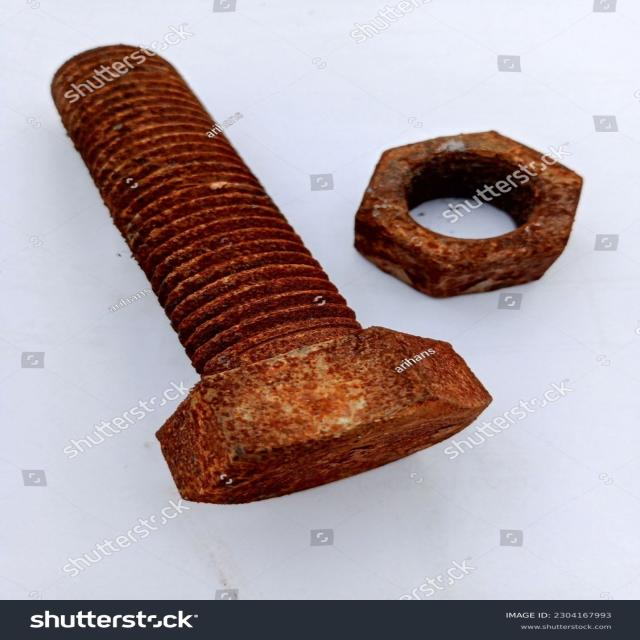Rusty bolt: (157, 314, 492, 502)
